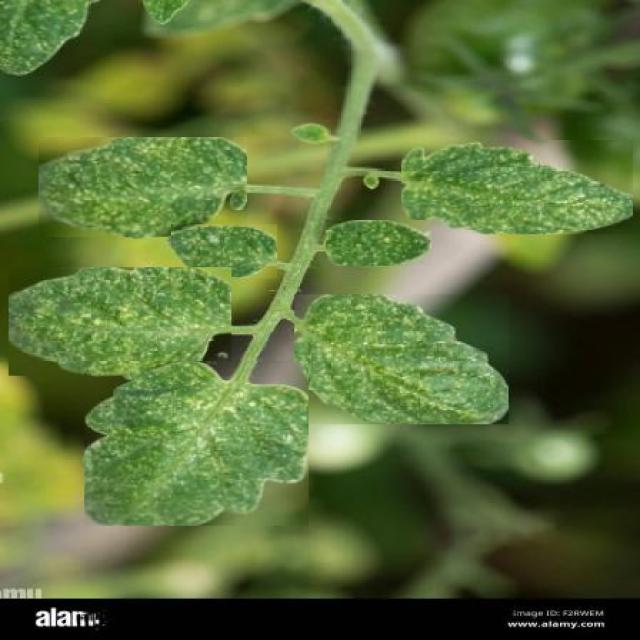Spider Mites: (84, 360, 309, 526), (295, 294, 509, 424), (8, 268, 232, 376), (402, 140, 634, 234), (39, 138, 247, 238), (170, 225, 277, 279), (326, 221, 431, 266)
